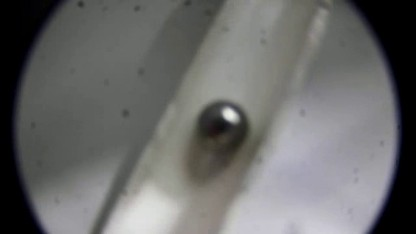gangzhu: (195, 98, 252, 149)
